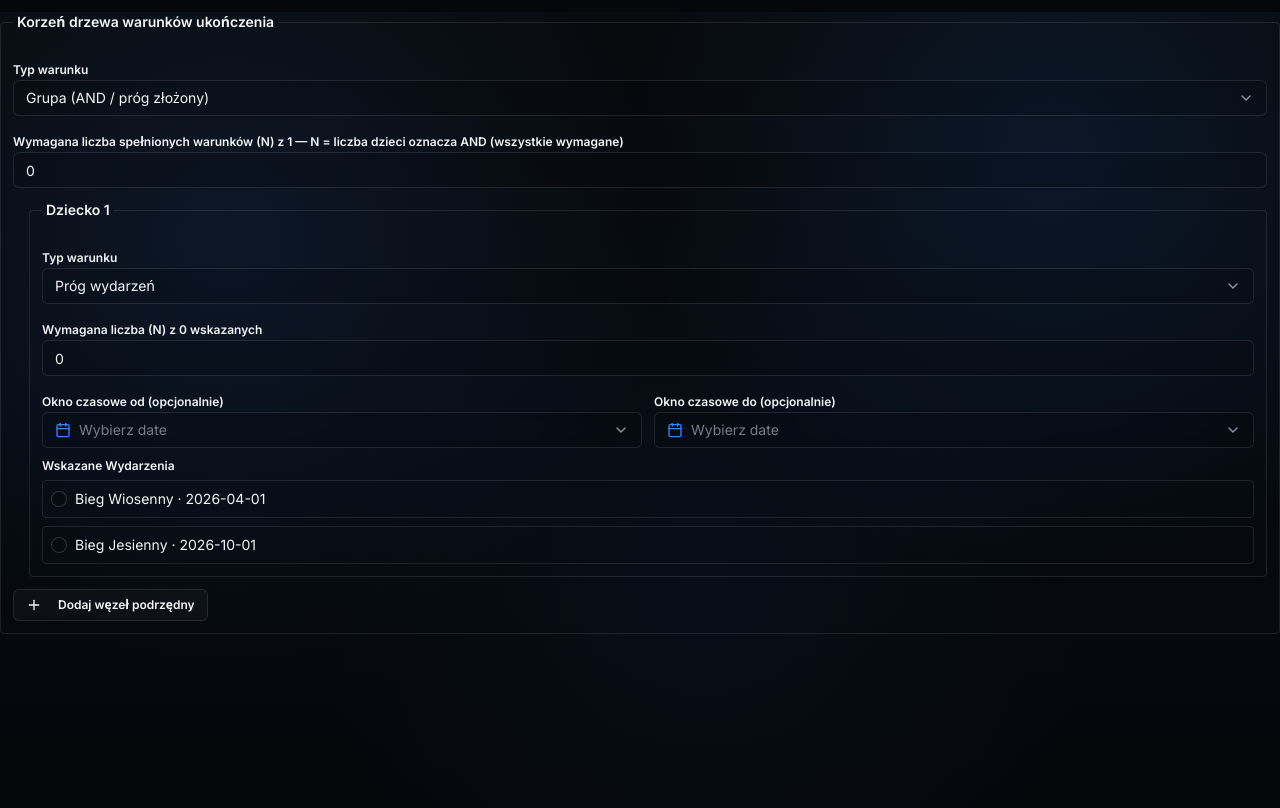
Test: ChallengeConditionTreeEditor › a group node starts with one child and "Dodaj węzeł podrzędny" adds another
expect the text "Dziecko 1" is shown once: met, box [42,200,114,220]
Step 1. Click the button "Dodaj węzeł podrzędny" → [110, 605], box [13,589,208,621]
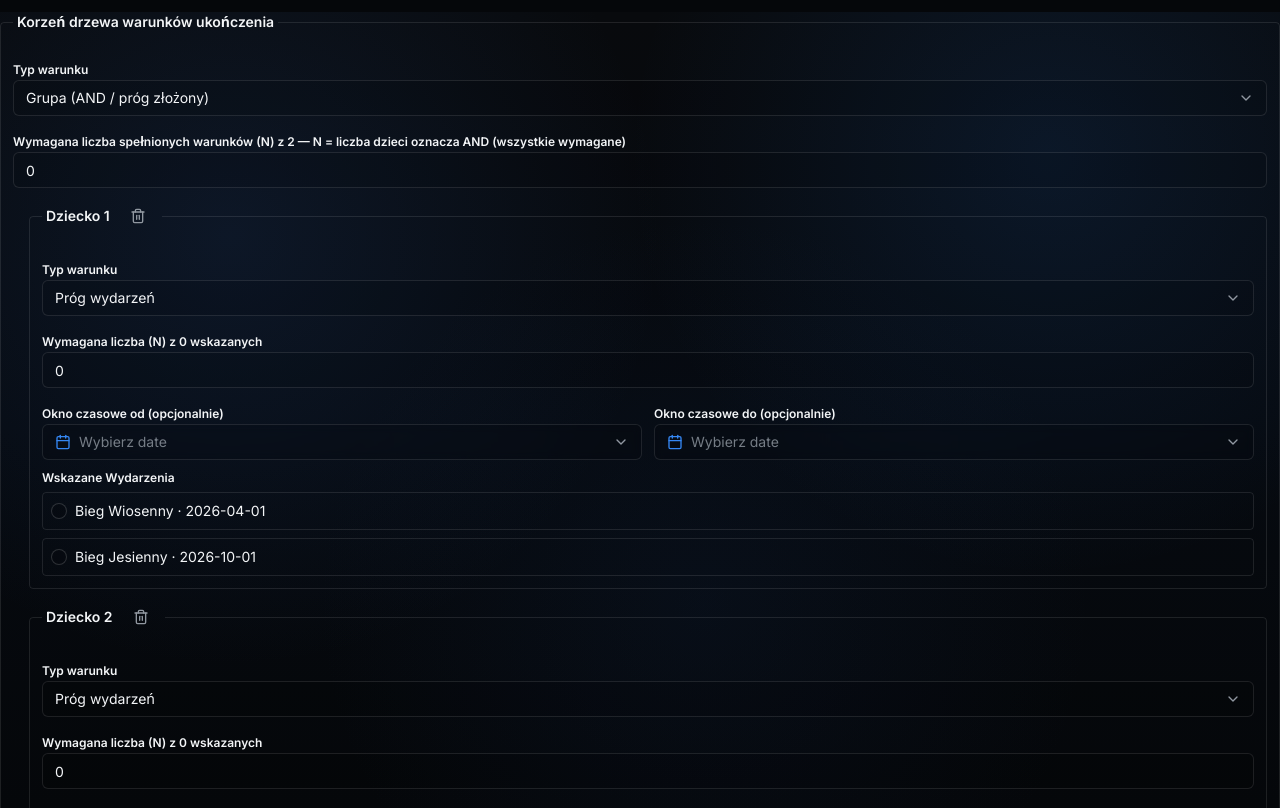
expect the text "Dziecko 1" is shown 2 times: met, box [42,200,162,232]; [42,601,165,633]
